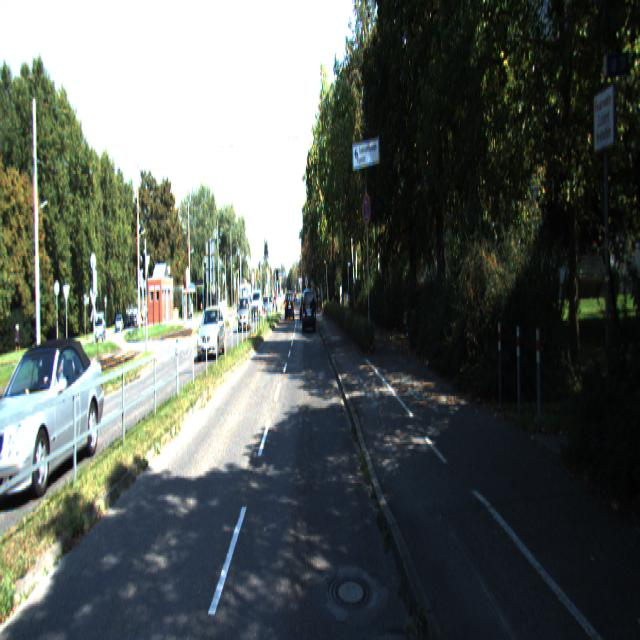Car: (0, 333, 107, 514), (197, 305, 227, 362), (302, 288, 316, 333), (237, 296, 250, 334)
